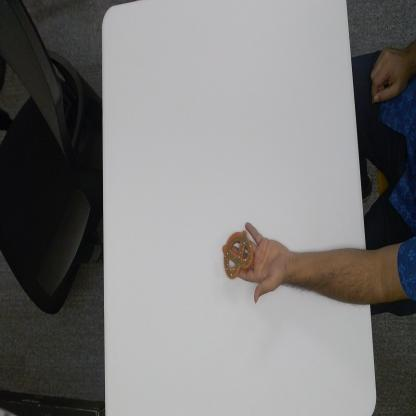Arm: (297, 239, 416, 323)
Firetruck: (223, 225, 254, 287)
Hand: (249, 210, 290, 314)
